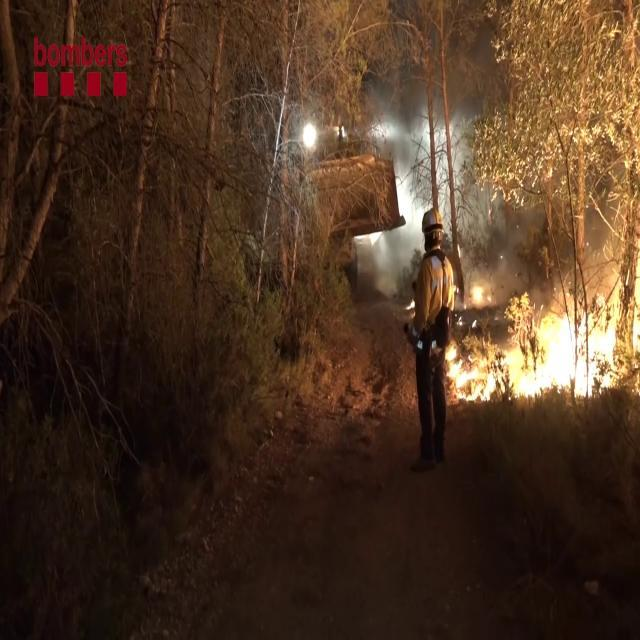Fire: (444, 280, 622, 408)
